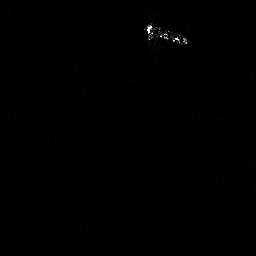ship: (141, 20, 194, 50)
